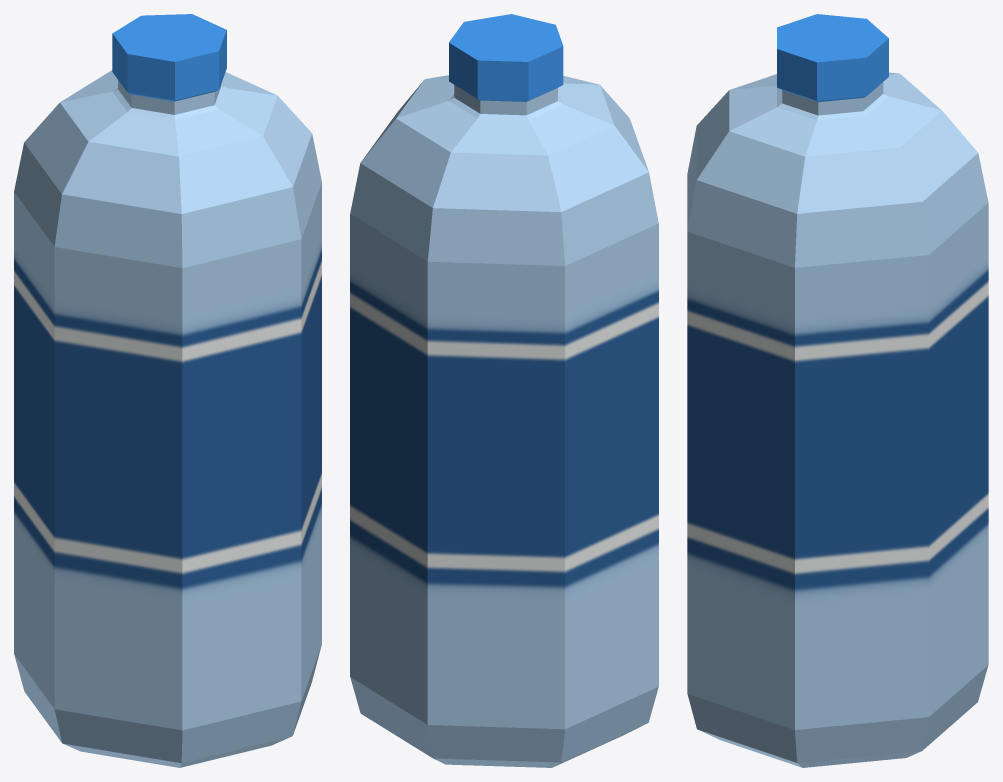
File: bottle_of_water.fbx
The picture shows the model from 3 angles, left to right: view 1: azimuth 30°, elevation 25°; view 2: azimuth 150°, elevation 25°; view 3: azimuth 270°, elevation 25°; orthographic projection.
Visible parts, largest first — view 1: bottle_of_water; view 2: bottle_of_water; view 3: bottle_of_water.
Part boxes in pixels (x1,y1,x2,y2): bottle_of_water: [14, 14, 321, 767]; bottle_of_water: [350, 14, 658, 767]; bottle_of_water: [687, 14, 988, 767].
Bounding box in the file's own units: 47.6 × 116 × 46.41.
